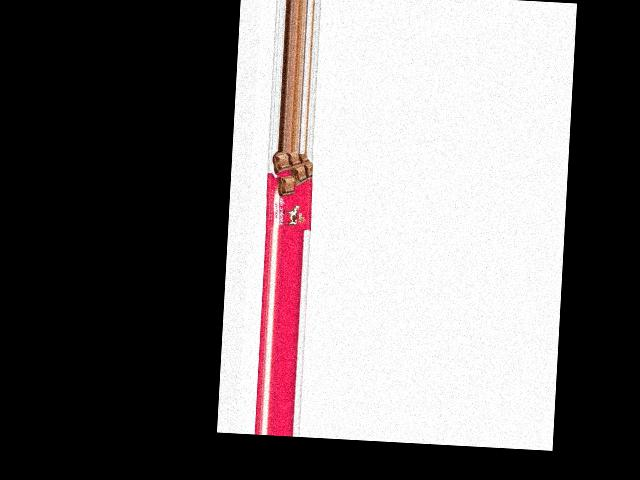chocolate: (263, 151, 313, 231)
